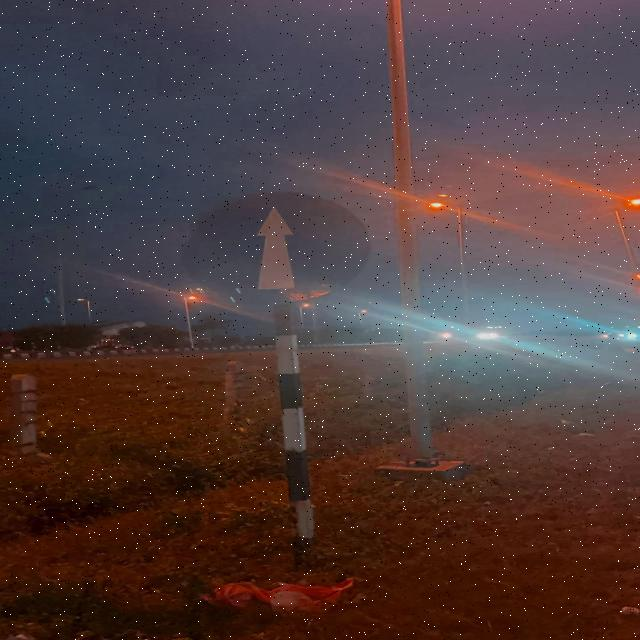compulsory_ahead: (175, 189, 378, 312)
